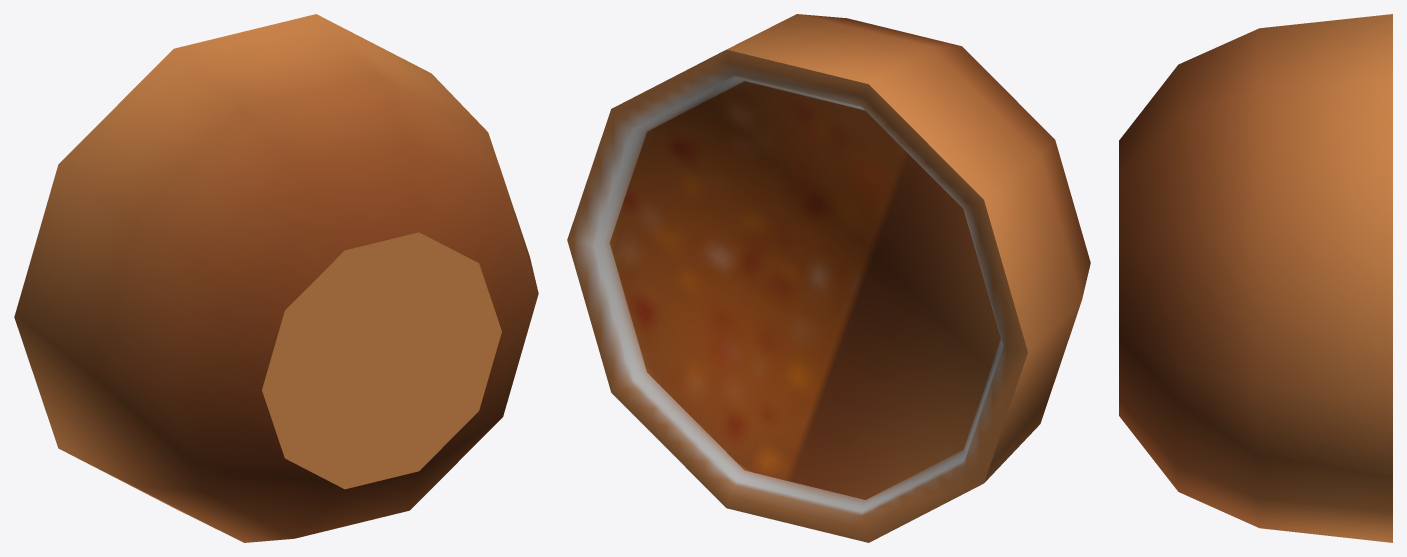
The model's file is CGMust.fbx.
The picture shows the model from 3 angles, left to right: view 1: azimuth 30°, elevation 25°; view 2: azimuth 150°, elevation 25°; view 3: azimuth 270°, elevation 25°; orthographic projection.
Parts seen in each view (by area): view 1: BowlFullSoup; view 2: BowlFullSoup; view 3: BowlFullSoup.
Part boxes in pixels (box(x1,y1,x2,y2)): BowlFullSoup: box(14, 14, 538, 542); BowlFullSoup: box(567, 14, 1090, 542); BowlFullSoup: box(1119, 14, 1392, 542).
Bounding box in the file's own units: 0.1767 × 0.0908 × 0.168.
